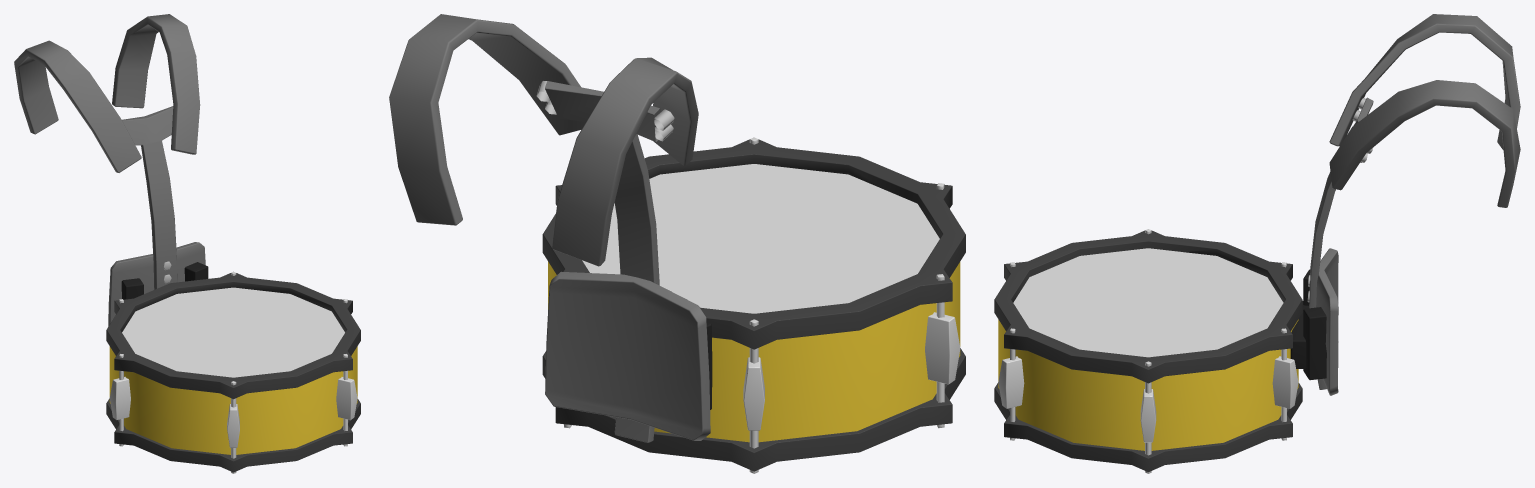
The model's file is Backpack_003.glb.
The picture shows the model from 3 angles, left to right: view 1: azimuth 30°, elevation 25°; view 2: azimuth 150°, elevation 25°; view 3: azimuth 270°, elevation 25°; orthographic projection. The views are drawn at different scales.
Parts seen in each view (by area): view 1: Backpack_003; view 2: Backpack_003; view 3: Backpack_003.
Boxes of the visible parts, bbox=[...] form: Backpack_003: bbox=[14, 14, 360, 473]; Backpack_003: bbox=[389, 14, 965, 473]; Backpack_003: bbox=[994, 14, 1520, 473].
Bounding box in the file's own units: 0.602 × 0.6967 × 0.9361.
1 material, 1 textured.
